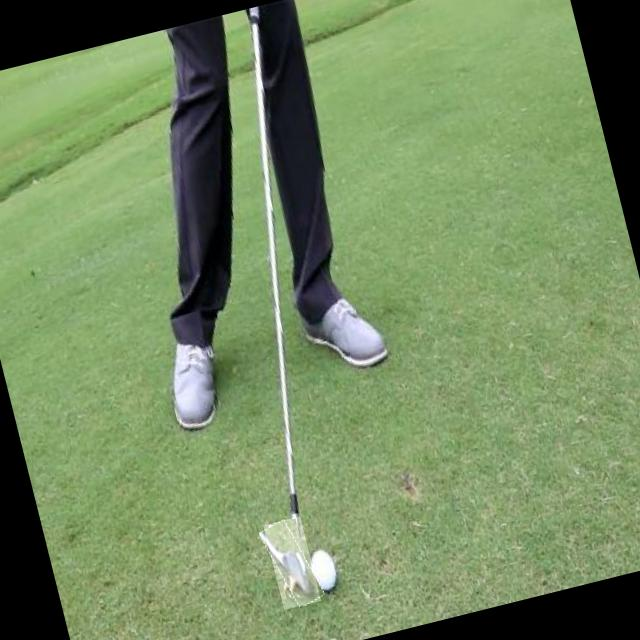club head: (263, 516, 321, 610)
